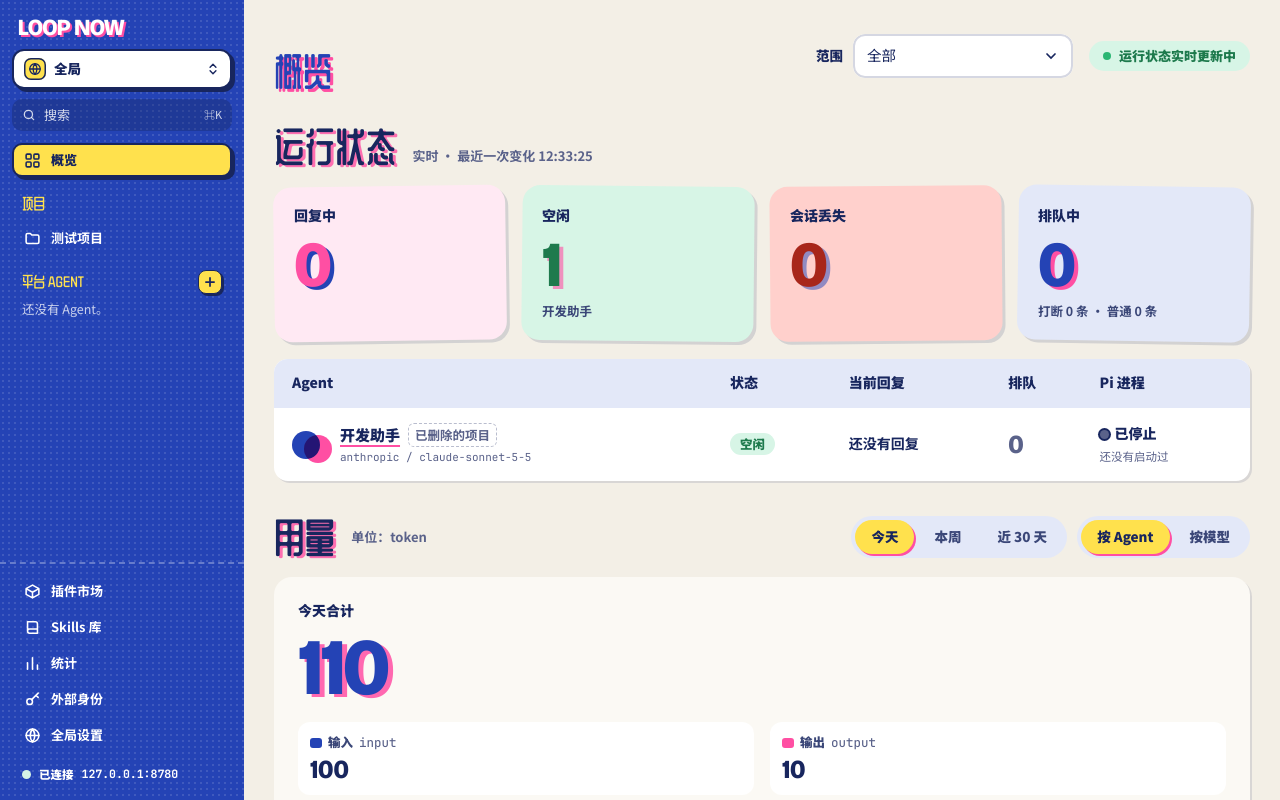
Test: 用量 › 切换到本周时，从本周一零点开始统计
Expected: the heading "概览" is shown, x1=274 y1=52 x2=332 y2=90
Step 1. Click the radio button labelled "本周" → (948,537), box x1=918 y1=520 x2=978 y2=554
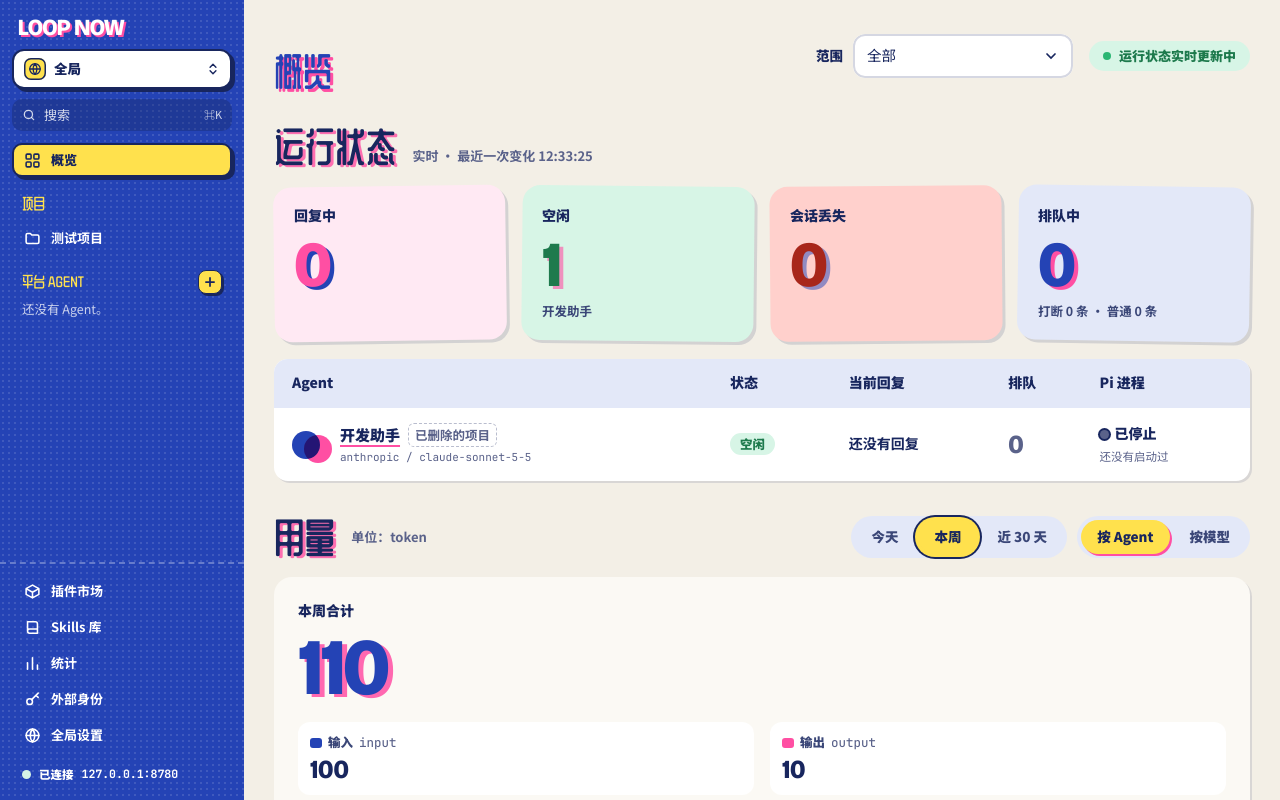
Now the text "本周合计" is shown, box x1=298 y1=602 x2=354 y2=619
